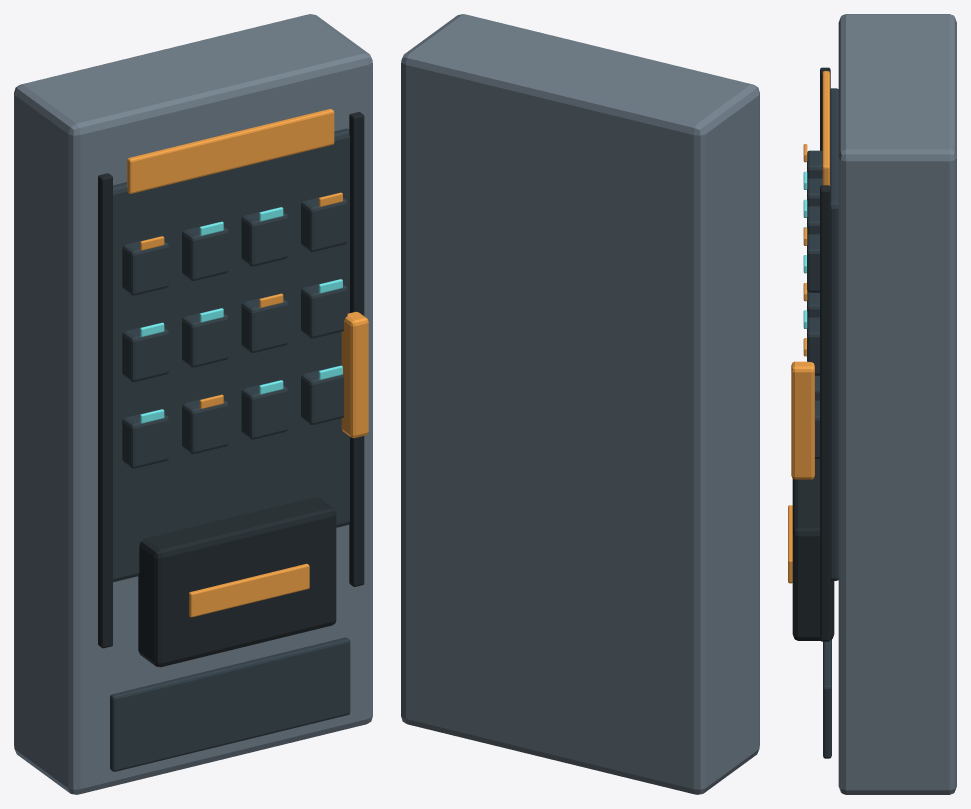
File: LPK_Power_BusPanel.fbx
3 views of the same model, side by side, from view 1: azimuth 30°, elevation 25°; view 2: azimuth 150°, elevation 25°; view 3: azimuth 270°, elevation 25° (orthographic). The views are drawn at different scales.
Parts seen in each view (by area): view 1: CabinetShell, Recess, BatteryDock, KickPlate, Header, DoorRail_-0, DoorRail_+0, ServiceHandle, DockGlow, Breaker_0_2, Breaker_2_2, Breaker_1_1 (+9 smaller); view 2: CabinetShell; view 3: CabinetShell, DoorRail_+0, BatteryDock, Recess, ServiceHandle, KickPlate, Header, Breaker_0_3, Breaker_1_3, Breaker_0_0, Breaker_0_1, DockGlow (+2 smaller).
Boxes of the visible parts, x1,y1,x2,y2 form: CabinetShell: (14, 14, 372, 794); Recess: (113, 128, 349, 582); BatteryDock: (138, 497, 336, 667); KickPlate: (110, 637, 350, 771); Header: (127, 109, 334, 193); DoorRail_-0: (98, 173, 112, 648); DoorRail_+0: (349, 112, 364, 586); ServiceHandle: (341, 312, 368, 438); DockGlow: (189, 563, 309, 617); Breaker_0_2: (241, 208, 287, 266); Breaker_2_2: (241, 381, 287, 439); Breaker_1_1: (182, 309, 228, 367); CabinetShell: (401, 14, 759, 794); CabinetShell: (838, 14, 956, 794); DoorRail_+0: (820, 185, 830, 641); BatteryDock: (792, 459, 834, 640); Recess: (830, 88, 838, 580); ServiceHandle: (791, 361, 814, 479); KickPlate: (823, 640, 831, 758); Header: (822, 71, 829, 185); Breaker_0_3: (807, 234, 819, 292); Breaker_1_3: (807, 317, 819, 375); Breaker_0_0: (807, 150, 822, 179); Breaker_0_1: (807, 178, 822, 207); DockGlow: (788, 505, 792, 583).
Bounding box in the file's own units: 92 × 194 × 46.
